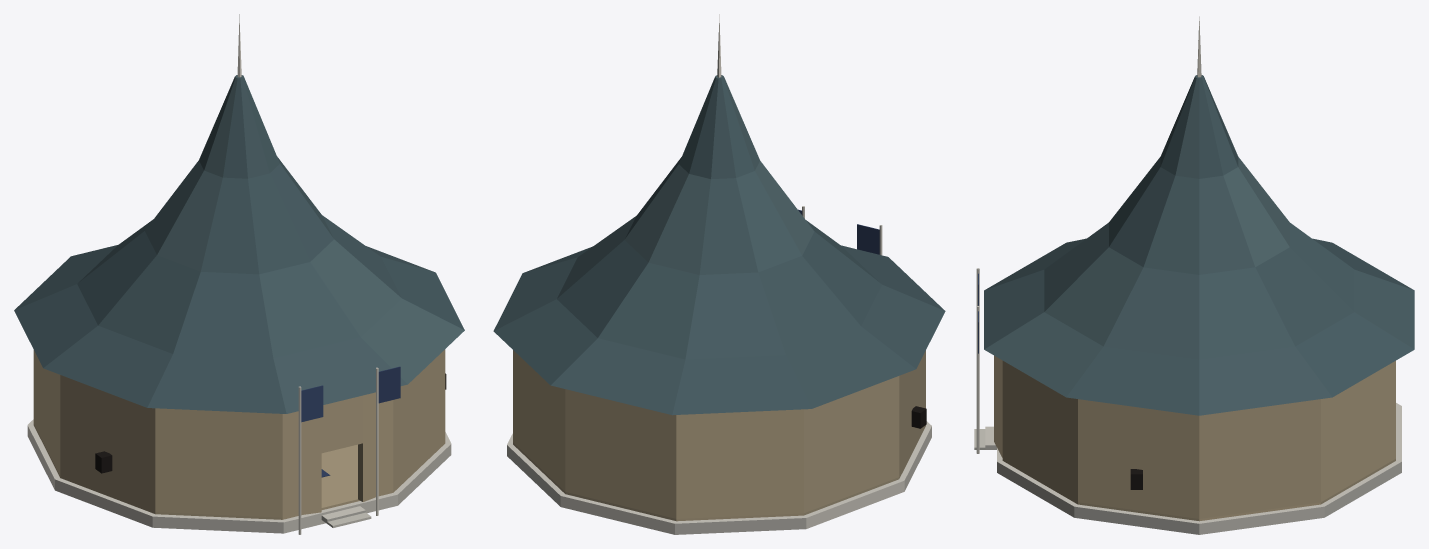
File: walk_veiled_hall.glb
3 views of the same model, side by side, from view 1: azimuth 30°, elevation 25°; view 2: azimuth 150°, elevation 25°; view 3: azimuth 270°, elevation 25° (orthographic).
Visible parts, largest first — view 1: walk_veiled_hall_roof, walk_veiled_hall; view 2: walk_veiled_hall_roof, walk_veiled_hall; view 3: walk_veiled_hall_roof, walk_veiled_hall.
Part boxes in pixels (<box>): walk_veiled_hall_roof: <box>14,14,464,413</box>; walk_veiled_hall: <box>27,349,451,534</box>; walk_veiled_hall_roof: <box>493,14,945,415</box>; walk_veiled_hall: <box>507,206,931,534</box>; walk_veiled_hall_roof: <box>984,16,1414,415</box>; walk_veiled_hall: <box>974,268,1401,534</box>.
Size of what is drawn, in the model's own units: 18.4 by 19.32 by 17.9.
Materials: 2 (2 with a texture image).
